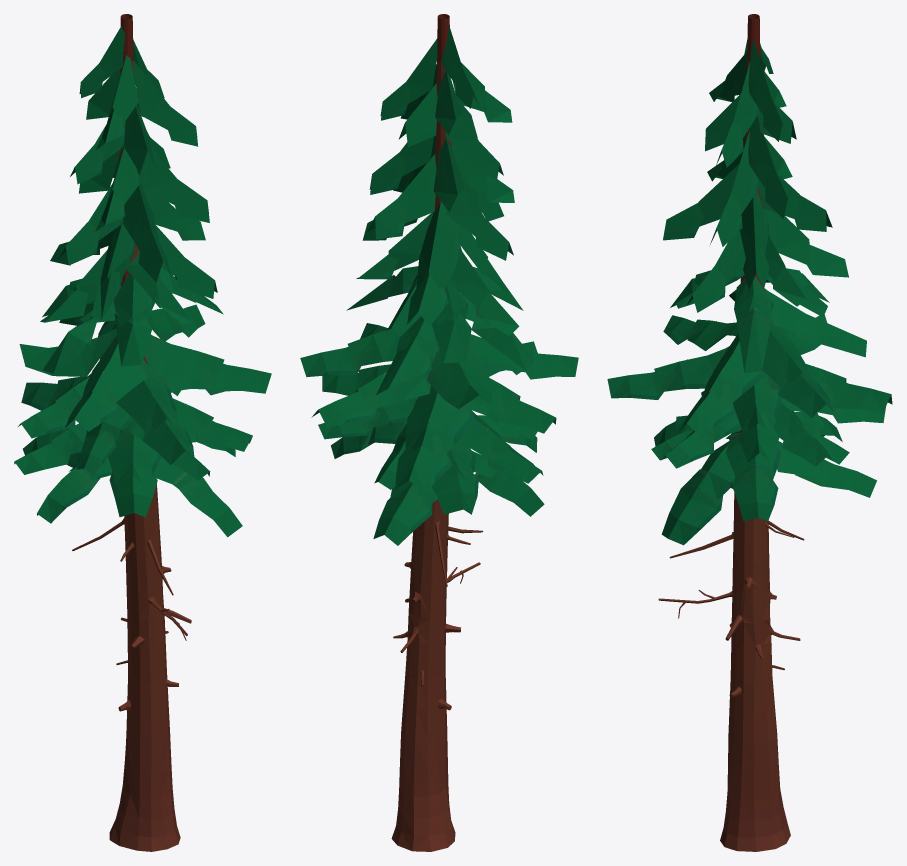
Rendered from Dynamic_Tree_02.fbx.
3 views of the same model, side by side, from view 1: azimuth 30°, elevation 25°; view 2: azimuth 150°, elevation 25°; view 3: azimuth 270°, elevation 25° (orthographic).
Parts seen in each view (by area): view 1: SM_Tree_02_Dynamic.mo; view 2: SM_Tree_02_Dynamic.mo; view 3: SM_Tree_02_Dynamic.mo.
Part boxes in pixels (<box>): SM_Tree_02_Dynamic.mo: <box>14,14,271,851</box>; SM_Tree_02_Dynamic.mo: <box>300,14,578,851</box>; SM_Tree_02_Dynamic.mo: <box>607,14,892,851</box>.
Size of the model in its own units: 523 by 1810 by 575.
2 materials, 2 textured.
